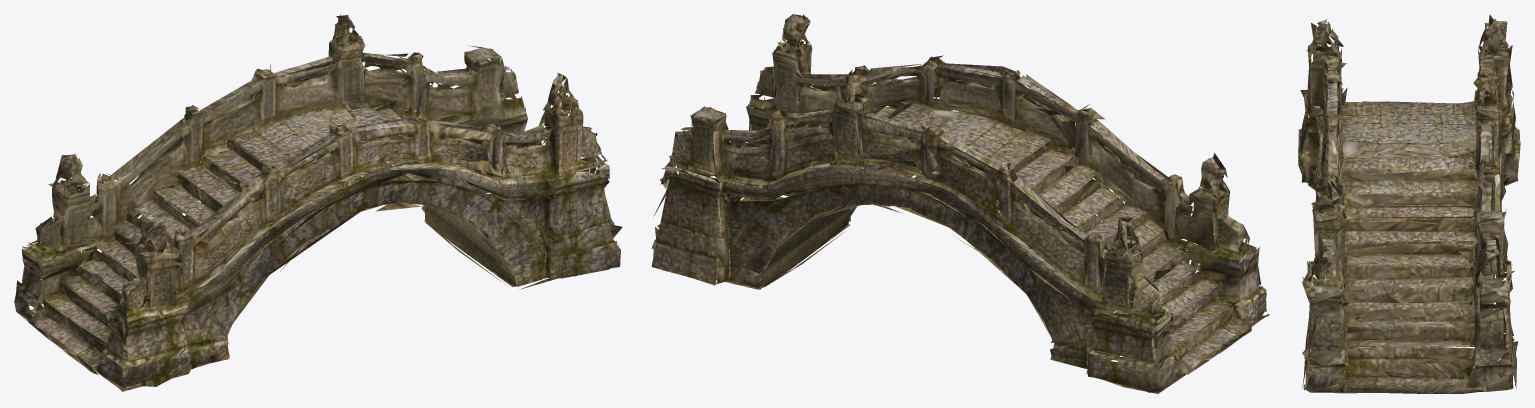
The model's file is ponte_lod1.glb.
The picture shows the model from 3 angles, left to right: view 1: azimuth 30°, elevation 25°; view 2: azimuth 150°, elevation 25°; view 3: azimuth 270°, elevation 25°; orthographic projection.
Visible parts, largest first — view 1: ponte; view 2: ponte; view 3: ponte.
Boxes of the visible parts, x1,y1,x2,y2 form: ponte: [14, 14, 622, 391]; ponte: [651, 14, 1269, 393]; ponte: [1298, 14, 1520, 393].
Size of the model in its own units: 9.02 by 3.94 by 3.38.
Materials: 1 (1 with a texture image).
